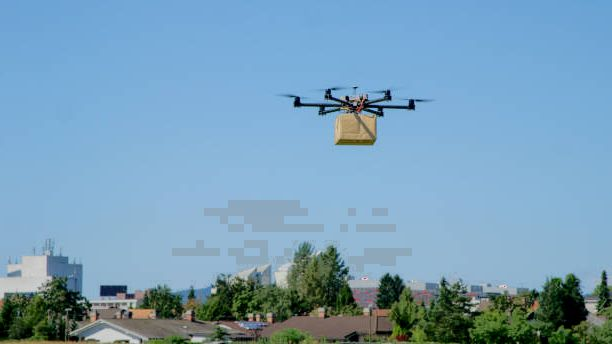Drone: (277, 79, 439, 121)
